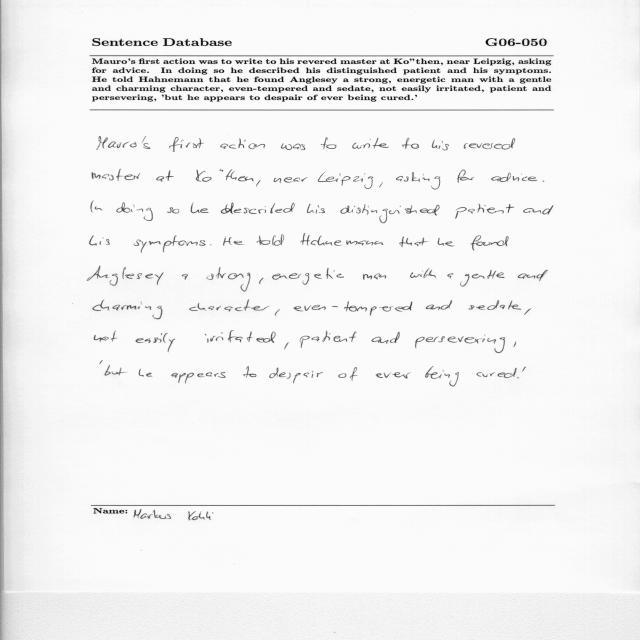word: (340, 205, 440, 224), (294, 301, 413, 316), (87, 266, 164, 286), (415, 336, 505, 353), (133, 235, 206, 253), (93, 300, 162, 319), (272, 268, 344, 285), (207, 267, 251, 292), (301, 233, 384, 246), (300, 330, 357, 348), (318, 172, 373, 189), (205, 330, 276, 343), (189, 300, 270, 311), (455, 204, 514, 219), (269, 368, 323, 384), (221, 203, 295, 214), (460, 270, 505, 287), (196, 169, 254, 182), (396, 172, 440, 189), (97, 136, 150, 150), (136, 333, 175, 352), (425, 366, 459, 387), (116, 203, 153, 222), (464, 138, 515, 150), (172, 372, 226, 383), (92, 169, 141, 181), (471, 236, 509, 251), (468, 300, 521, 310), (169, 137, 204, 152), (220, 138, 265, 149), (491, 173, 537, 182), (476, 368, 517, 378), (352, 138, 389, 149), (372, 332, 400, 344), (518, 270, 548, 281), (257, 234, 284, 246), (523, 205, 554, 215), (399, 237, 428, 247), (338, 367, 358, 381), (410, 268, 436, 278), (426, 300, 452, 310), (94, 331, 117, 342), (376, 372, 411, 379), (457, 169, 474, 183), (105, 365, 126, 376), (274, 177, 308, 183), (90, 236, 110, 246), (156, 171, 174, 182), (223, 237, 244, 246), (402, 138, 419, 149), (432, 140, 449, 151), (321, 138, 336, 150), (191, 203, 209, 213), (307, 204, 325, 214), (281, 143, 305, 150), (243, 366, 257, 378), (363, 273, 386, 280), (438, 238, 455, 246), (91, 202, 102, 212), (139, 369, 152, 377), (167, 208, 179, 214), (524, 309, 531, 315), (182, 274, 188, 280), (275, 309, 280, 316), (256, 180, 261, 186), (259, 278, 264, 284), (448, 274, 454, 279), (285, 343, 289, 350), (379, 182, 383, 187), (522, 367, 526, 372), (514, 342, 516, 347), (100, 361, 103, 364), (543, 180, 545, 182), (517, 377, 519, 378), (210, 245, 212, 245)
